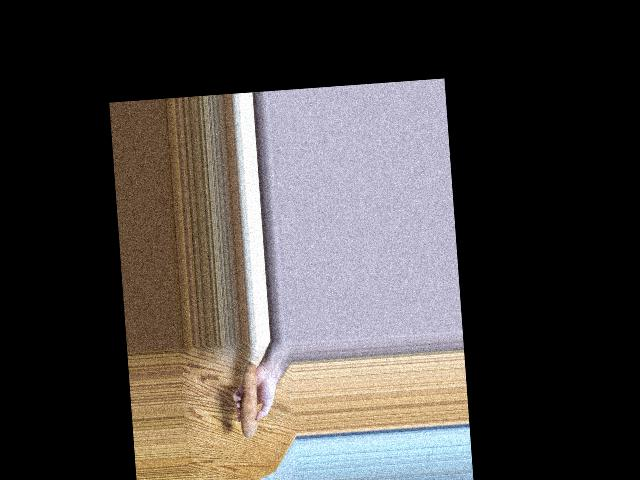sweet_potato: (231, 363, 260, 441)
